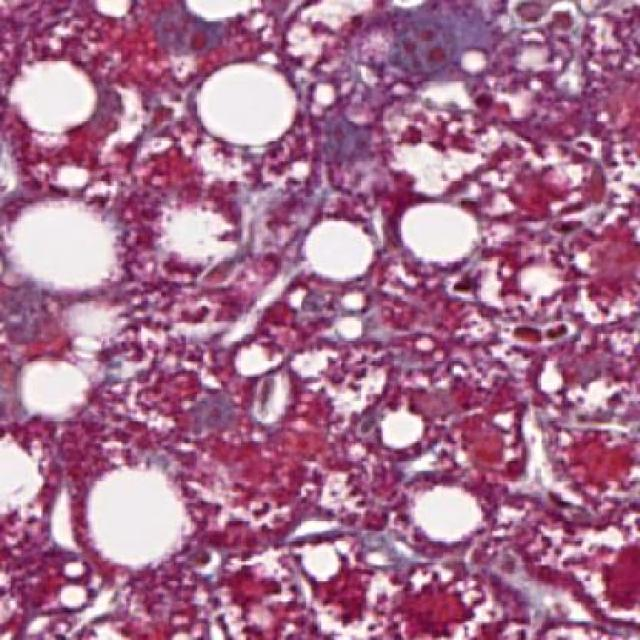steatosis: (85, 462, 187, 572), (196, 54, 304, 152), (18, 200, 124, 291), (5, 54, 110, 139), (397, 189, 487, 264), (297, 214, 383, 283)
